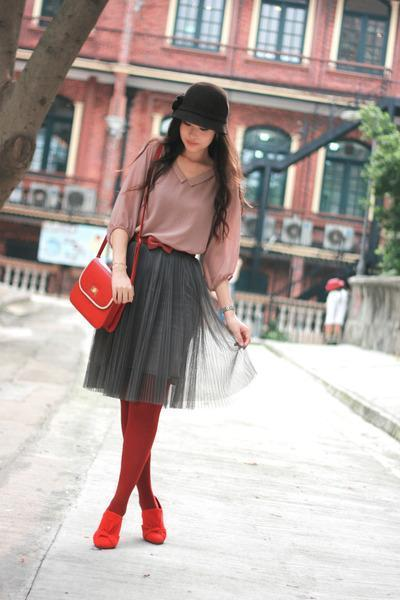bag: (70, 260, 131, 331)
hat: (165, 72, 227, 139)
shirt: (85, 132, 255, 294)
shoe: (93, 516, 165, 549)
skirt: (84, 233, 227, 410)
sunglass: (128, 260, 135, 299)
